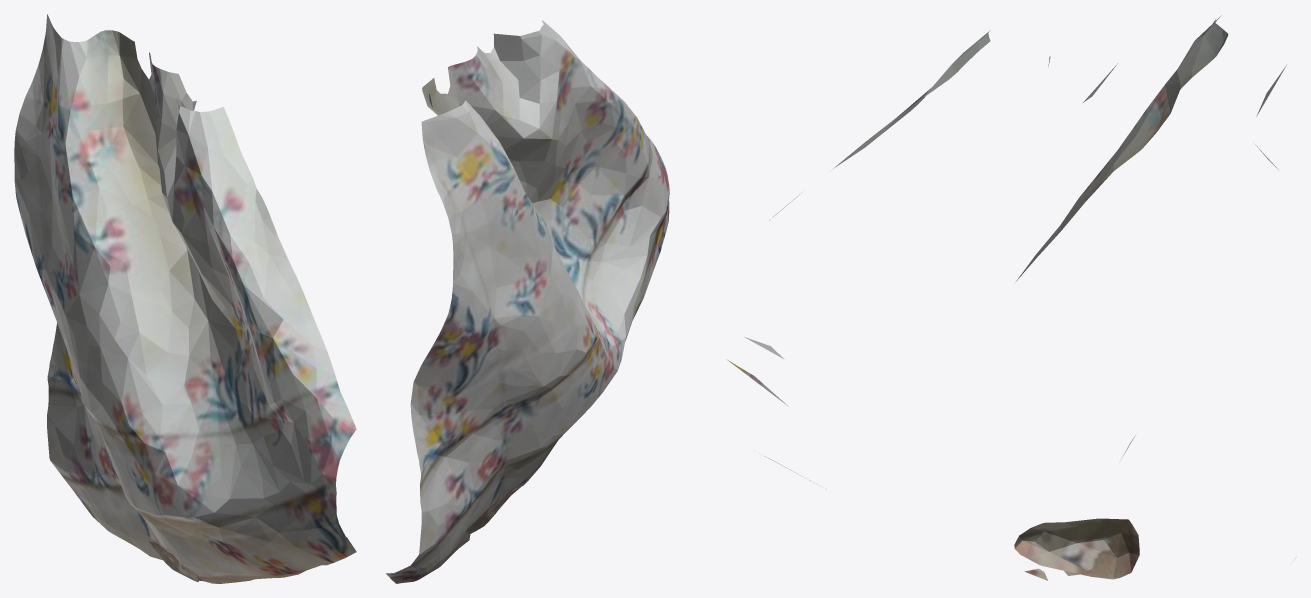
The picture shows the model from 3 angles, left to right: view 1: azimuth 30°, elevation 25°; view 2: azimuth 150°, elevation 25°; view 3: azimuth 270°, elevation 25°; orthographic projection. The views are drawn at different scales.
Size of the model in its own units: 33.08 by 171 by 171.
Materials: 1 (1 with a texture image).
